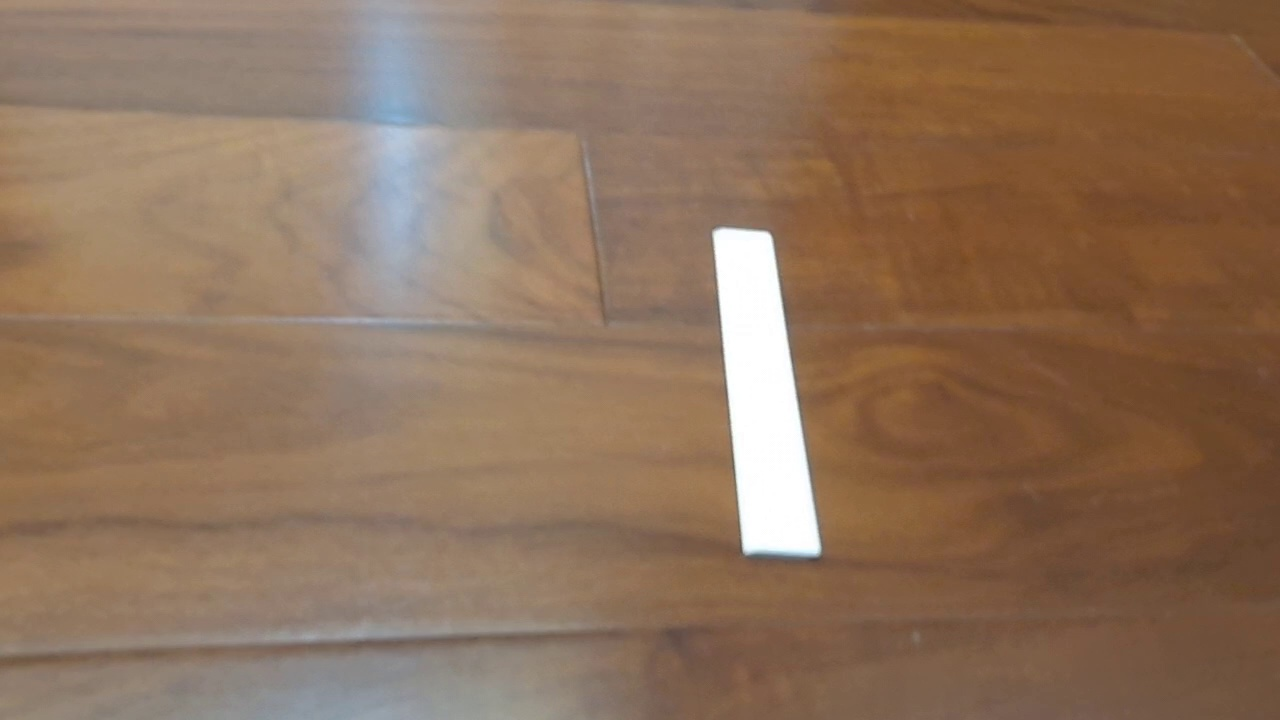ruler: (710, 225, 824, 561)
